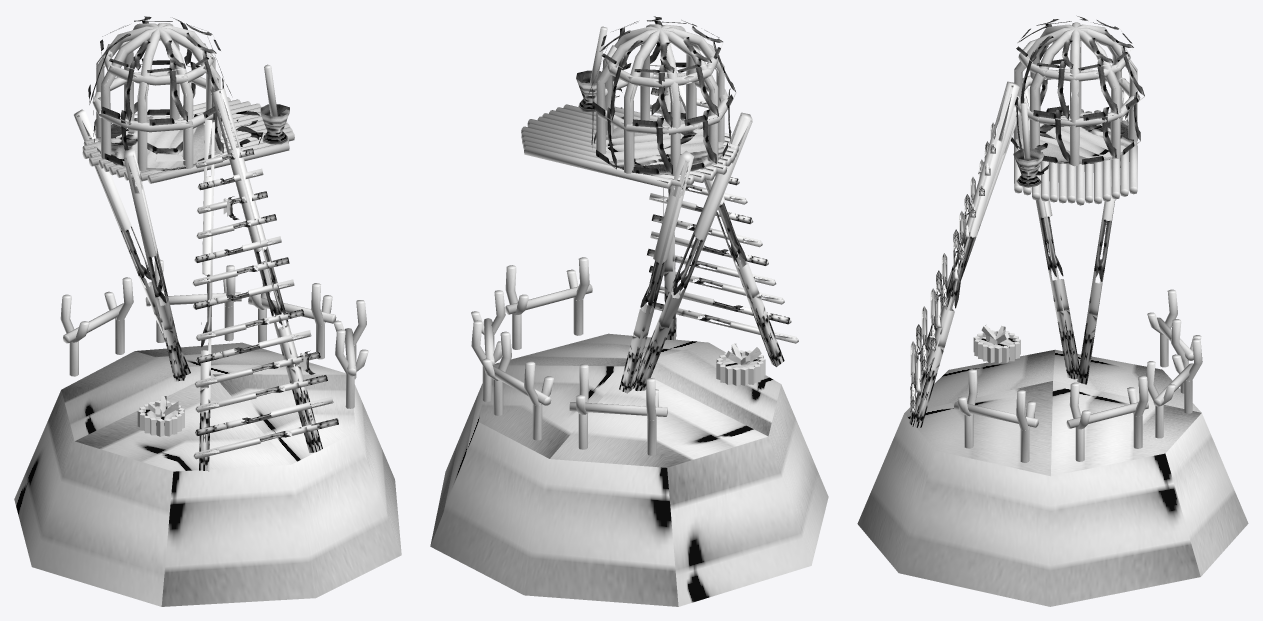
The model's file is tree_house.dae.
3 renders of one model, left to right at view 1: azimuth 30°, elevation 25°; view 2: azimuth 150°, elevation 25°; view 3: azimuth 270°, elevation 25°, orthographic. The views are drawn at different scales.
Visible parts, largest first — view 1: tree_house; view 2: tree_house; view 3: tree_house.
Boxes of the visible parts, x1,y1,x2,y2 form: tree_house: (14, 16, 401, 606); tree_house: (430, 16, 828, 606); tree_house: (857, 16, 1248, 606).
Size of the model in its own units: 15.82 by 15.55 by 20.89.
